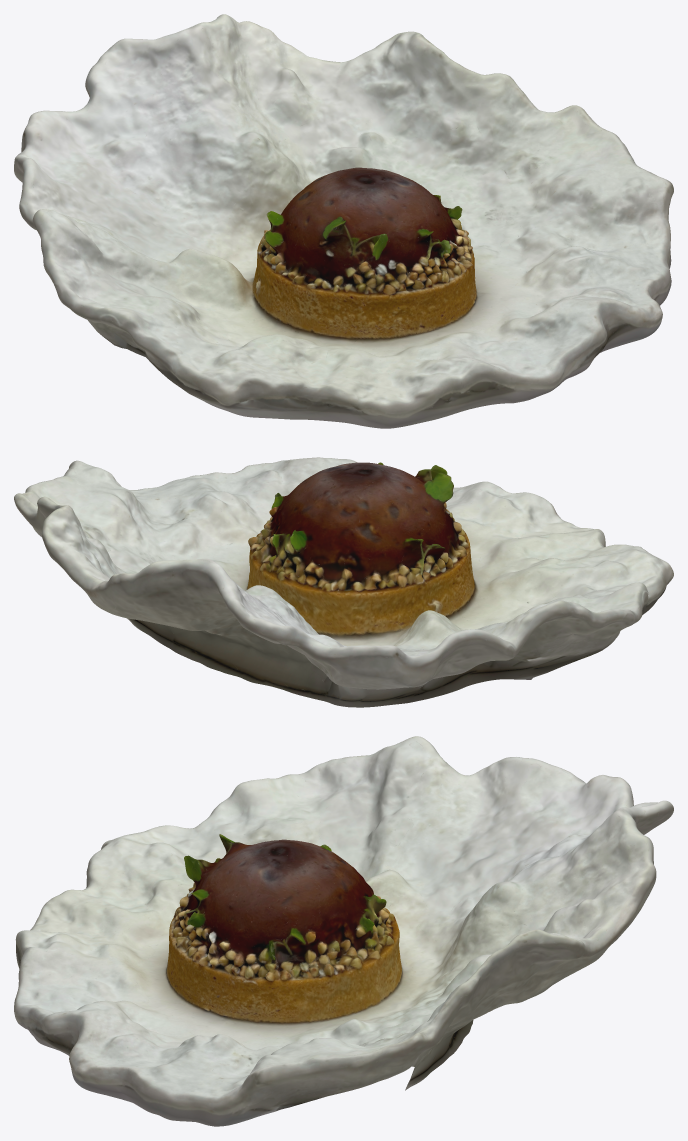
File: chocolat.glb
3 renders of one model, top to bottom at view 1: azimuth 30°, elevation 25°; view 2: azimuth 150°, elevation 25°; view 3: azimuth 270°, elevation 25°, orthographic. The views are drawn at different scales.
Parts seen in each view (by area): view 1: FB278579_592F_4406_BF4E_4A3C67739EC3; view 2: FB278579_592F_4406_BF4E_4A3C67739EC3; view 3: FB278579_592F_4406_BF4E_4A3C67739EC3.
Part boxes in pixels (box(x1,y1,x2,y2)): FB278579_592F_4406_BF4E_4A3C67739EC3: box(14, 14, 673, 428); FB278579_592F_4406_BF4E_4A3C67739EC3: box(14, 457, 673, 707); FB278579_592F_4406_BF4E_4A3C67739EC3: box(14, 736, 673, 1126).
Bounding box in the file's own units: 0.2201 × 0.0636 × 0.2051.
Materials: 1 (1 with a texture image).
